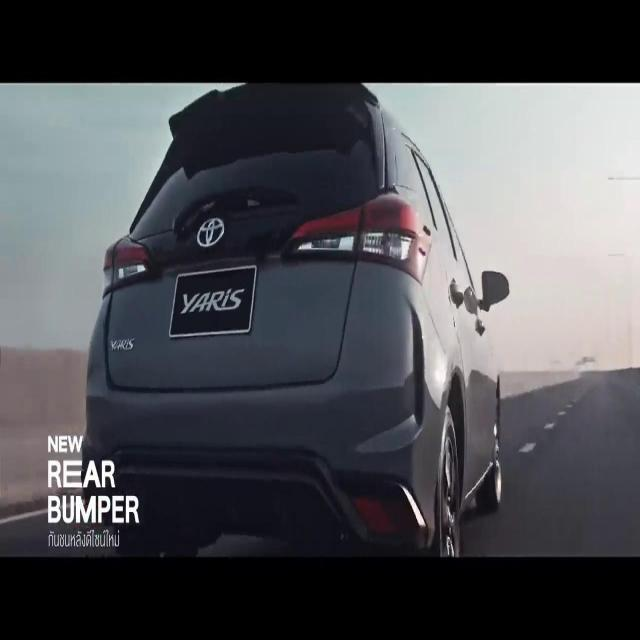Hatchback: (83, 84, 508, 556)
